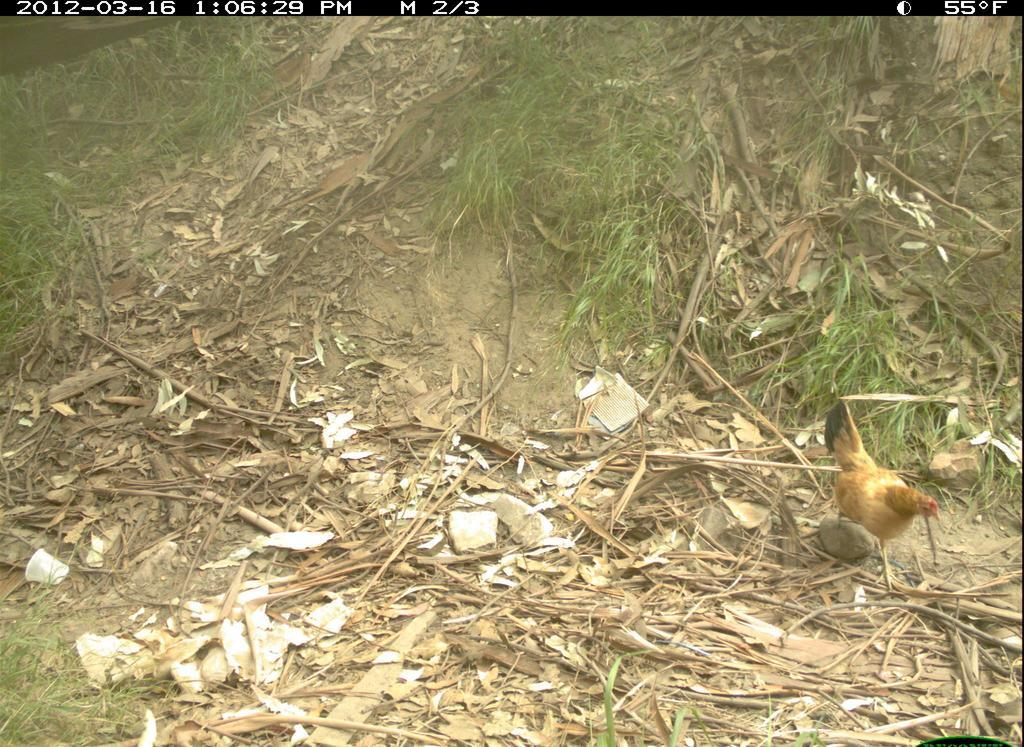bird: (803, 402, 949, 577)
